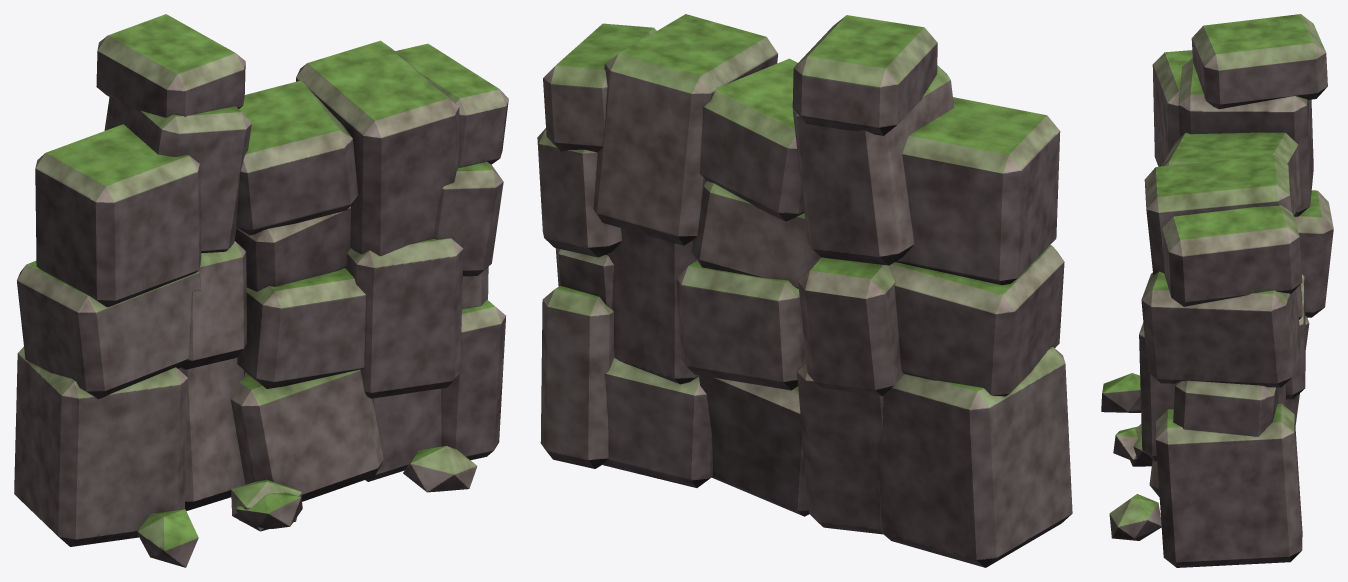
Rendered from Env_Cliff_1.glb.
The picture shows the model from 3 angles, left to right: view 1: azimuth 30°, elevation 25°; view 2: azimuth 150°, elevation 25°; view 3: azimuth 270°, elevation 25°; orthographic projection. The views are drawn at different scales.
Visible parts, largest first — view 1: Env_Cliff_1.001; view 2: Env_Cliff_1.001; view 3: Env_Cliff_1.001.
Boxes of the visible parts, x1,y1,x2,y2 form: Env_Cliff_1.001: [14, 14, 508, 567]; Env_Cliff_1.001: [537, 14, 1072, 567]; Env_Cliff_1.001: [1101, 14, 1333, 567].
Bounding box in the file's own units: 12 × 11.64 × 5.84.
Materials: 1 (1 with a texture image).
